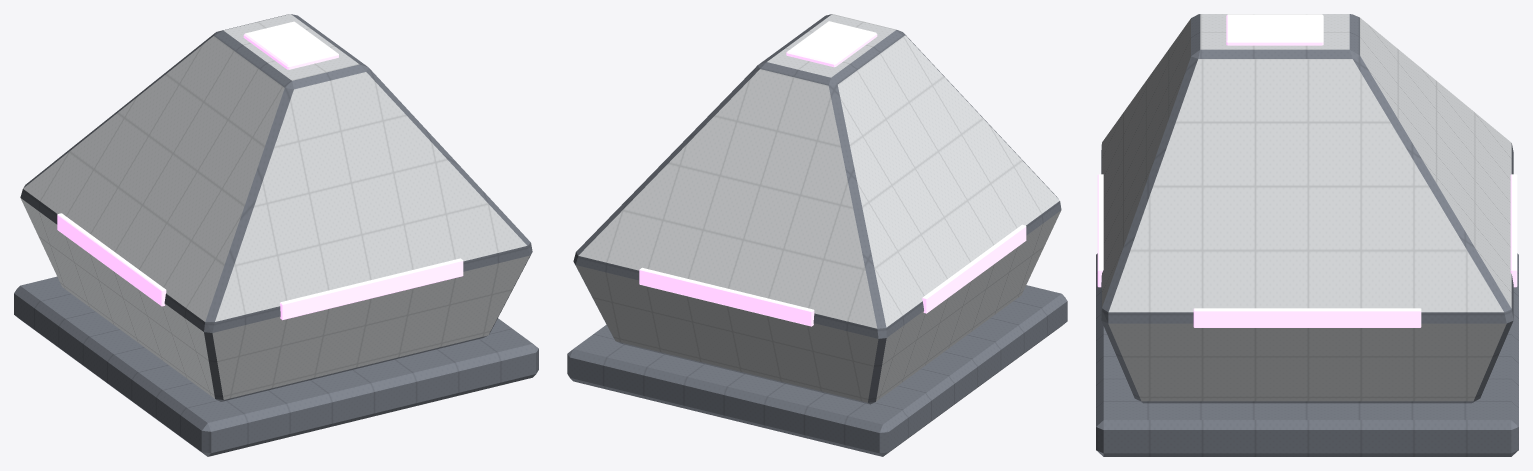
File: R4X_Stealth_LOD1.glb
3 views of the same model, side by side, from view 1: azimuth 30°, elevation 25°; view 2: azimuth 150°, elevation 25°; view 3: azimuth 270°, elevation 25° (orthographic). The views are drawn at different scales.
Visible parts, largest first — view 1: R4X_Stealth_LOD1; view 2: R4X_Stealth_LOD1; view 3: R4X_Stealth_LOD1.
Part boxes in pixels (<box>): R4X_Stealth_LOD1: <box>14,14,538,456</box>; R4X_Stealth_LOD1: <box>567,14,1067,456</box>; R4X_Stealth_LOD1: <box>1096,14,1518,456</box>.
Bounding box in the file's own units: 0.52 × 0.466 × 0.52.
Materials: 3 (2 with a texture image).
